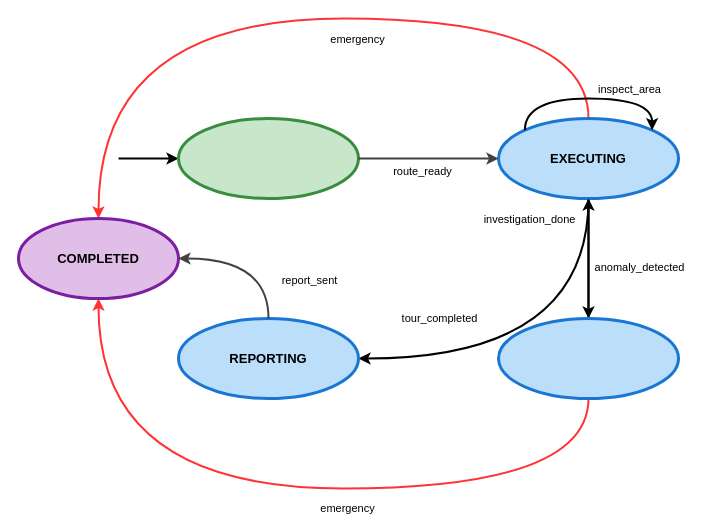
This 701x532 diagram has some shape labels left out. Each missing label, with the centre of its shape:
INVESTIGATING: (588,358)
PLANNING: (268,158)
